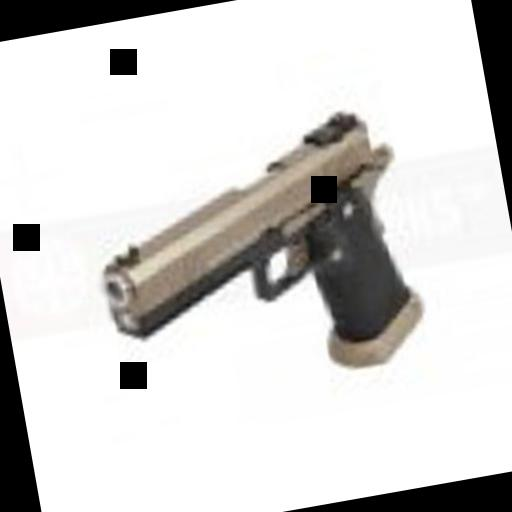Handgun: (68, 96, 436, 414)
